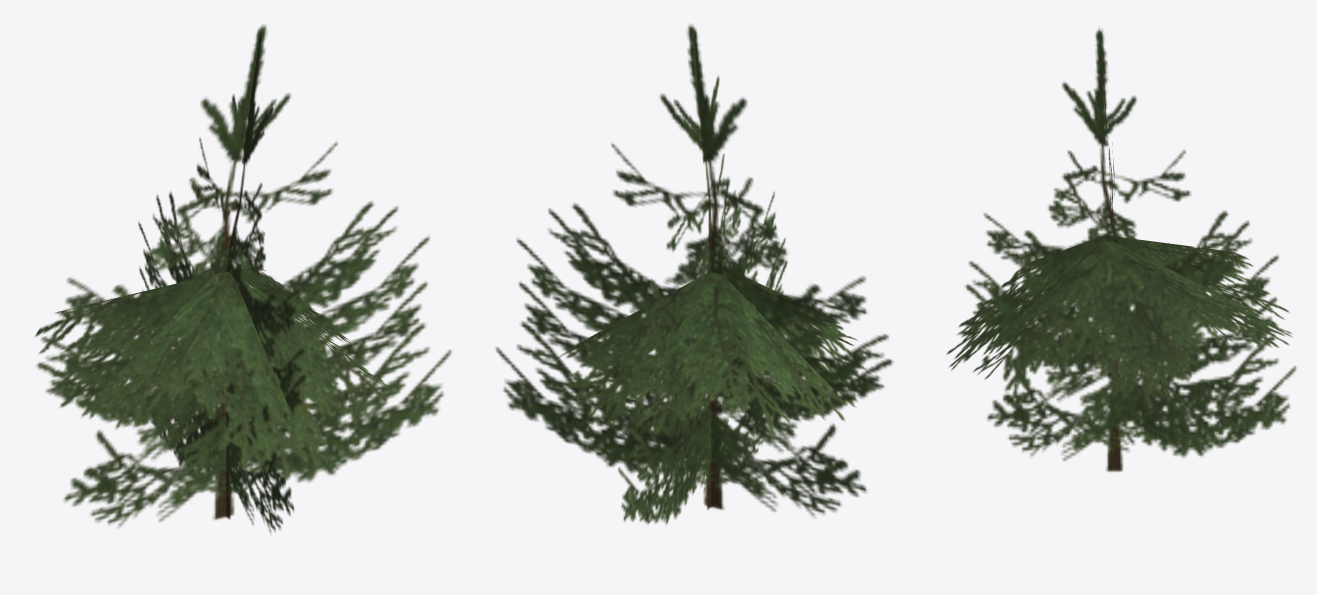
Rendered from tree_12.glb.
3 renders of one model, left to right at view 1: azimuth 30°, elevation 25°; view 2: azimuth 150°, elevation 25°; view 3: azimuth 270°, elevation 25°, orthographic. The views are drawn at different scales.
Parts seen in each view (by area): view 1: Background_Tree_Atlas.011_Background_Tree_Atlas_0; view 2: Background_Tree_Atlas.011_Background_Tree_Atlas_0; view 3: Background_Tree_Atlas.011_Background_Tree_Atlas_0.
Boxes of the visible parts, x1,y1,x2,y2 form: Background_Tree_Atlas.011_Background_Tree_Atlas_0: (35,24,451,533); Background_Tree_Atlas.011_Background_Tree_Atlas_0: (495,24,893,524); Background_Tree_Atlas.011_Background_Tree_Atlas_0: (946,27,1296,471).
Size of the model in its own units: 1.83 by 2.04 by 1.42.
1 material, 1 textured.
